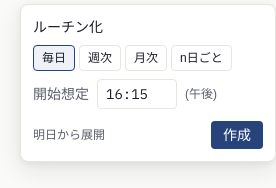
Test case: RoutinizePopover（画面定義書01 §4.1 / O-12: 最小の入力でタスクからルーチンを作る） › 開始想定時刻から導出されるセクションを付記する（展開先の目安）
Replace the text in the field labelled "開始想定 (午後)" with "10:00" at {"x": 137, "y": 94}, box [97, 79, 177, 109]
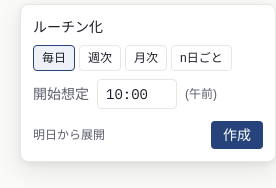
Expected: the text "(午前)" is shown, [185, 86, 217, 102]
